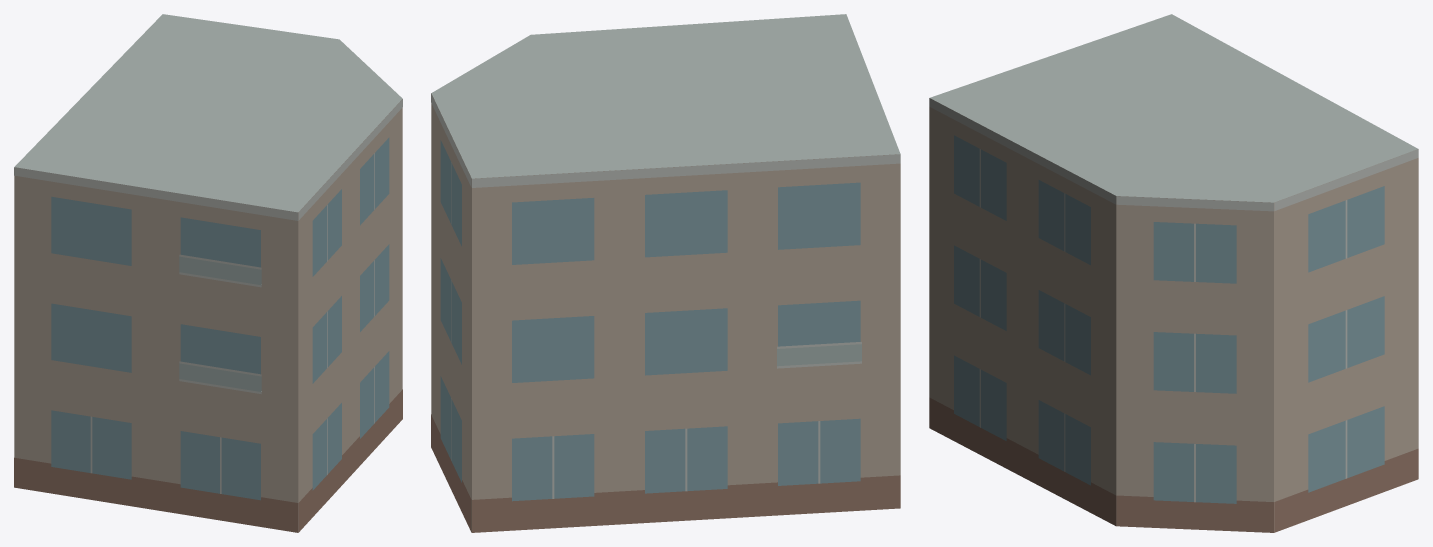
The model's file is survey-upis-32801490.glb.
3 views of the same model, side by side, from view 1: azimuth 30°, elevation 25°; view 2: azimuth 150°, elevation 25°; view 3: azimuth 270°, elevation 25° (orthographic). The views are drawn at different scales.
Parts seen in each view (by area): view 1: survey-upis-32801490.tmp; view 2: survey-upis-32801490.tmp; view 3: survey-upis-32801490.tmp.
Part boxes in pixels (box(x1,y1,x2,y2)): survey-upis-32801490.tmp: box(14, 14, 402, 532); survey-upis-32801490.tmp: box(431, 14, 900, 532); survey-upis-32801490.tmp: box(929, 14, 1418, 532).
Bounding box in the file's own units: 11.21 × 9.15 × 12.29.
